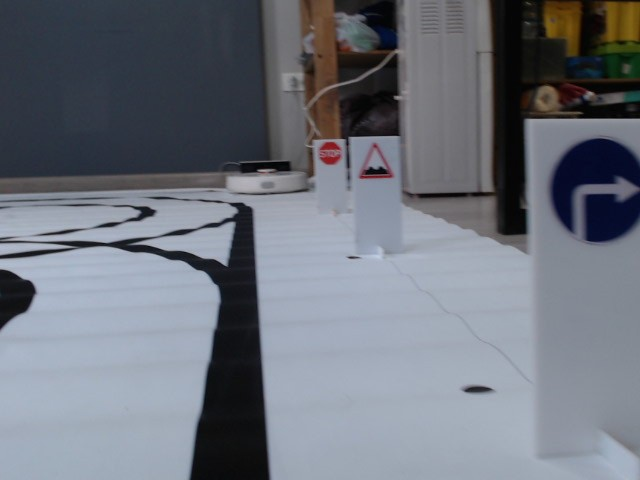Nerov: (359, 142, 397, 179)
Right: (547, 136, 640, 245)
Stop: (316, 142, 343, 167)
